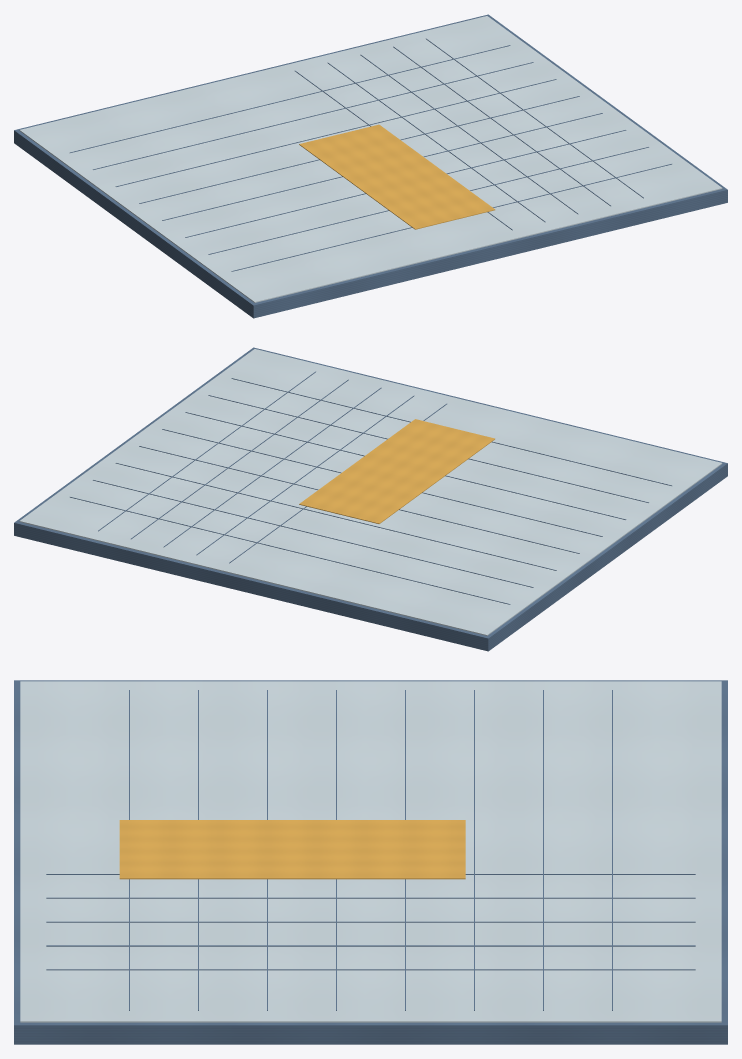
File: atlas100-s053-a07.lod2.glb
3 renders of one model, top to bottom at view 1: azimuth 30°, elevation 25°; view 2: azimuth 150°, elevation 25°; view 3: azimuth 270°, elevation 25°, orthographic. The views are drawn at different scales.
Visible parts, largest first — view 1: atlas100-s053-a07:part-001, atlas100-s053-a07:part-000, atlas100-s053-a07:part-021, atlas100-s053-a07:part-013, atlas100-s053-a07:part-014, atlas100-s053-a07:part-015, atlas100-s053-a07:part-020, atlas100-s053-a07:part-018, atlas100-s053-a07:part-019, atlas100-s053-a07:part-017, atlas100-s053-a07:part-016; view 2: atlas100-s053-a07:part-001, atlas100-s053-a07:part-000, atlas100-s053-a07:part-021, atlas100-s053-a07:part-013, atlas100-s053-a07:part-014, atlas100-s053-a07:part-015, atlas100-s053-a07:part-019, atlas100-s053-a07:part-020, atlas100-s053-a07:part-016, atlas100-s053-a07:part-018, atlas100-s053-a07:part-017; view 3: atlas100-s053-a07:part-001, atlas100-s053-a07:part-000, atlas100-s053-a07:part-021, atlas100-s053-a07:part-010, atlas100-s053-a07:part-011, atlas100-s053-a07:part-012, atlas100-s053-a07:part-009.
Boxes of the visible parts, x1,y1,x2,y2 form: atlas100-s053-a07:part-001: [19, 16, 722, 302]; atlas100-s053-a07:part-000: [14, 14, 727, 318]; atlas100-s053-a07:part-021: [299, 124, 495, 229]; atlas100-s053-a07:part-013: [70, 45, 510, 152]; atlas100-s053-a07:part-014: [93, 62, 533, 169]; atlas100-s053-a07:part-015: [115, 79, 556, 186]; atlas100-s053-a07:part-020: [231, 164, 671, 271]; atlas100-s053-a07:part-018: [185, 130, 626, 237]; atlas100-s053-a07:part-019: [208, 147, 648, 254]; atlas100-s053-a07:part-017: [162, 113, 602, 220]; atlas100-s053-a07:part-016: [139, 96, 579, 203]; atlas100-s053-a07:part-001: [19, 349, 722, 635]; atlas100-s053-a07:part-000: [14, 347, 727, 651]; atlas100-s053-a07:part-021: [299, 419, 494, 523]; atlas100-s053-a07:part-013: [70, 497, 510, 604]; atlas100-s053-a07:part-014: [93, 480, 533, 587]; atlas100-s053-a07:part-015: [115, 463, 556, 570]; atlas100-s053-a07:part-019: [208, 395, 648, 502]; atlas100-s053-a07:part-020: [231, 378, 671, 485]; atlas100-s053-a07:part-016: [139, 446, 579, 553]; atlas100-s053-a07:part-018: [185, 412, 626, 519]; atlas100-s053-a07:part-017: [162, 429, 602, 536]; atlas100-s053-a07:part-001: [20, 681, 721, 1022]; atlas100-s053-a07:part-000: [14, 680, 727, 1044]; atlas100-s053-a07:part-021: [119, 820, 465, 879]; atlas100-s053-a07:part-010: [46, 921, 695, 922]; atlas100-s053-a07:part-011: [46, 945, 695, 946]; atlas100-s053-a07:part-012: [46, 969, 695, 970]; atlas100-s053-a07:part-009: [46, 897, 695, 898].
Size of the model in its own units: 13.02 by 0.404 by 11.39.
Materials: 3 (3 with a texture image).
